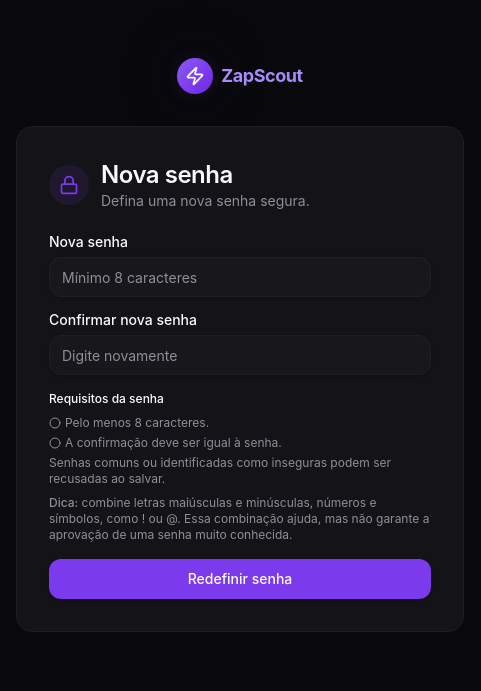
it: definição de senha com orientações claras › não envia ao serviço se a confirmação for diferente
The width and height of the screenshot is (481, 691).
expect the button "Redefinir senha" is shown: met, box [49,559,431,599]
Type "Ficticia!76543" into the password field labelled "Nova senha".
click(240, 277); type("Ficticia!76543")  # box [49,257,431,297]
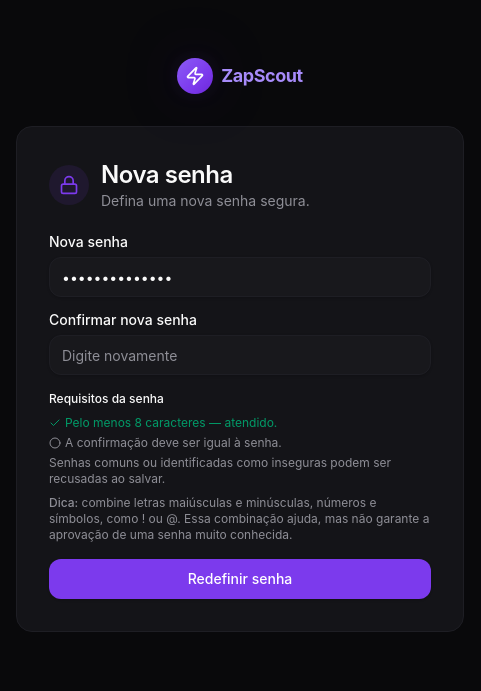
Type "OutraFicticia!76543" into the password field labelled "Confirmar nova senha".
click(240, 355); type("OutraFicticia!76543")  # box [49,335,431,375]
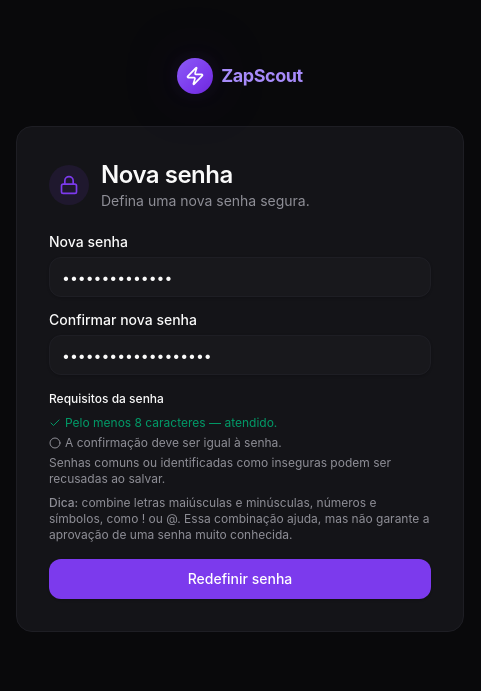
Submit the form, box [49,235,431,599]
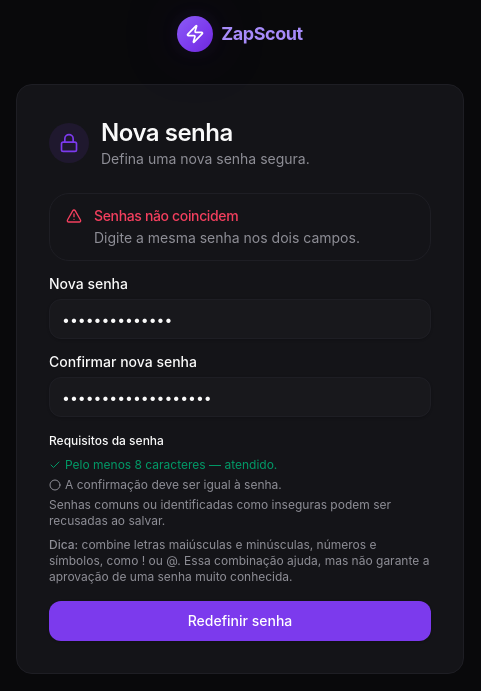
expect the heading "Senhas não coincidem" is shown: met, box [94,207,238,224]
